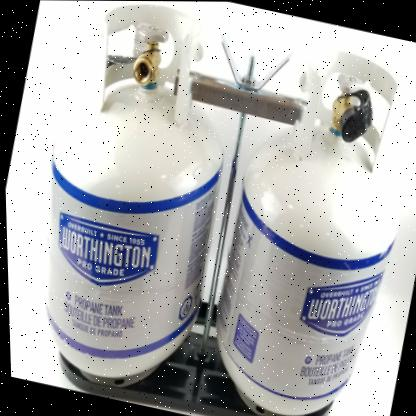gas-tank: (0, 0, 277, 414), (187, 15, 415, 415)
